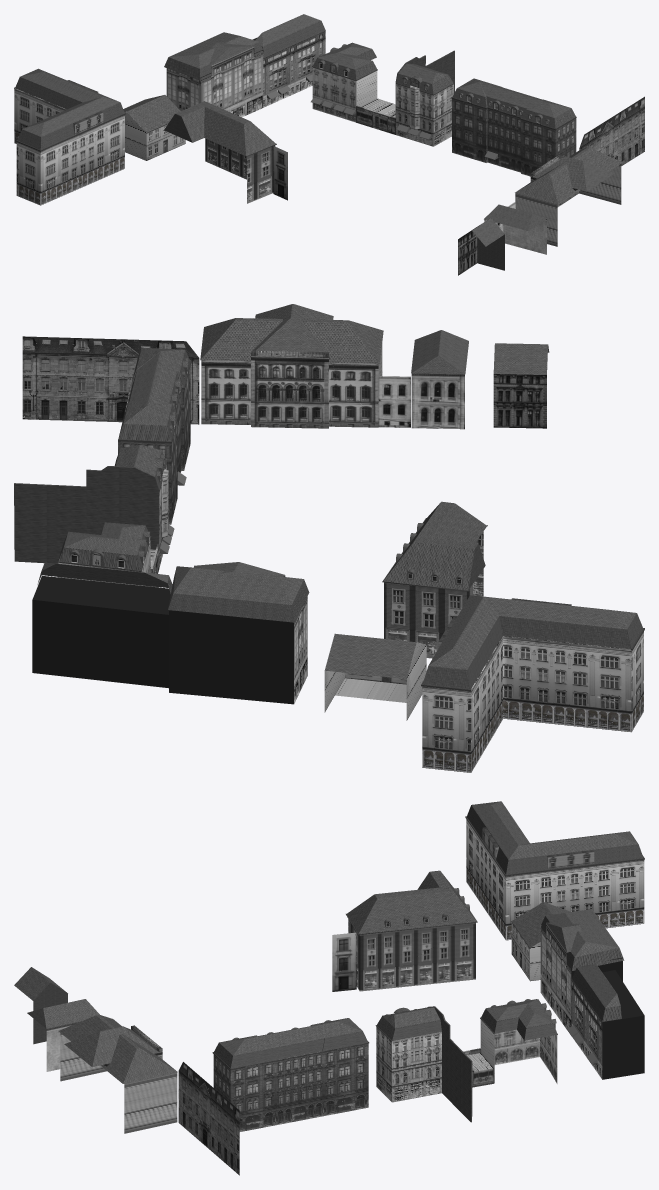
The model's file is Old_GSp_SideBuildings.FBX.
The picture shows the model from 3 angles, top to bottom: view 1: azimuth 30°, elevation 25°; view 2: azimuth 150°, elevation 25°; view 3: azimuth 270°, elevation 25°; orthographic projection. The views are drawn at different scales.
Parts seen in each view (by area): view 1: GSP_OLD_BA007, GSP_OLD_BA, OLD_GSP_SB_H, Box031, B_Werth_67_69_Frontold, OLD_GSP_SB_AA, GSP_OLD_BA001, B_Werth_71_73_Frontold, G_OLD_placeholder_front010, OLD_GSP_B_A, GSP_OLD_BA003, Box027 (+18 smaller); view 2: GSP_OLD_BA007, B_Werth_71_074, Box027, G_OLD_placeholder_front010, B_Werth_67_070, OLD_GSP_SB_H, OLD_GSP_SB_AA, roof, Box031, Line007, OLD_GSP_B_A, old_Ges_Scholl_Platz_003 (+16 smaller); view 3: GSP_OLD_BA, GSP_OLD_BA007, old_Ges_Scholl_Platz_2_Side001, OLD_GSP_SB_H, Box031, OLD_GSP_SB_AA, GSP_OLD_BA001, OLD_GSP_B_A, G_OLD_placeholder_front010, Box027, B_Werth_71_074, roof (+16 smaller).
Part boxes in pixels (box(x1,y1,x2,y2)): GSP_OLD_BA007: box(14, 88, 124, 205); GSP_OLD_BA: box(452, 98, 576, 176); OLD_GSP_SB_H: box(15, 68, 124, 149); Box031: box(164, 101, 275, 156); B_Werth_67_69_Frontold: box(201, 46, 263, 117); OLD_GSP_SB_AA: box(515, 147, 622, 204); GSP_OLD_BA001: box(396, 84, 453, 146); B_Werth_71_73_Frontold: box(263, 31, 325, 107); G_OLD_placeholder_front010: box(579, 96, 644, 165); OLD_GSP_B_A: box(452, 78, 575, 128); GSP_OLD_BA003: box(312, 67, 377, 122); Box027: box(515, 155, 621, 246); GSP_OLD_BA007: box(422, 631, 643, 772); B_Werth_71_074: box(32, 576, 170, 688); Box027: box(201, 344, 382, 428); G_OLD_placeholder_front010: box(22, 336, 199, 424); B_Werth_67_070: box(169, 597, 293, 704); OLD_GSP_SB_H: box(423, 595, 643, 689); OLD_GSP_SB_AA: box(200, 304, 383, 363); roof: box(168, 566, 309, 622); Box031: box(383, 501, 486, 590); Line007: box(14, 483, 86, 563); OLD_GSP_B_A: box(118, 347, 189, 441); old_Ges_Scholl_Platz_003: box(384, 531, 483, 658); GSP_OLD_BA: box(213, 1043, 368, 1131); GSP_OLD_BA007: box(466, 819, 644, 940); old_Ges_Scholl_Platz_2_Side001: box(359, 923, 475, 991); OLD_GSP_SB_H: box(466, 801, 643, 874); Box031: box(346, 870, 476, 934); OLD_GSP_SB_AA: box(58, 1014, 177, 1083); GSP_OLD_BA001: box(376, 1027, 441, 1102); OLD_GSP_B_A: box(213, 1018, 367, 1068); G_OLD_placeholder_front010: box(178, 1062, 239, 1175); Box027: box(60, 1025, 177, 1133); B_Werth_71_074: box(571, 970, 644, 1079); roof: box(541, 909, 624, 970).
Size of the model in its own units: 17768 by 2408 by 15870.
Materials: 26 (23 with a texture image).
